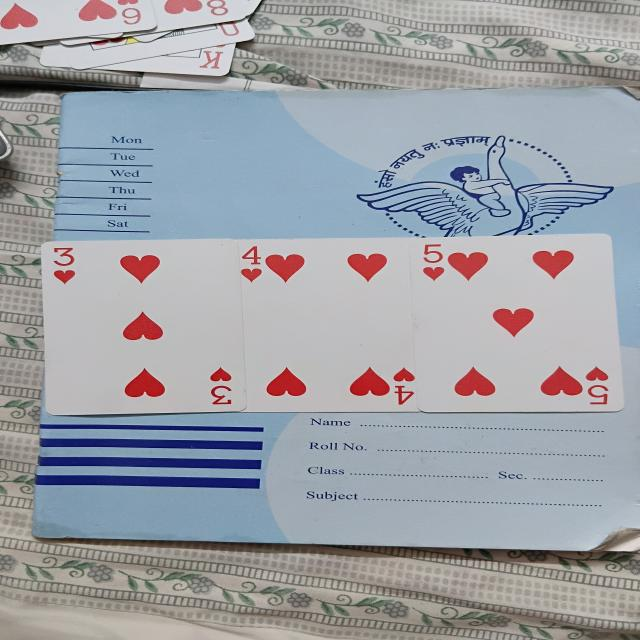3H: (48, 240, 242, 414)
4H: (240, 238, 415, 410)
5H: (415, 238, 622, 411)
